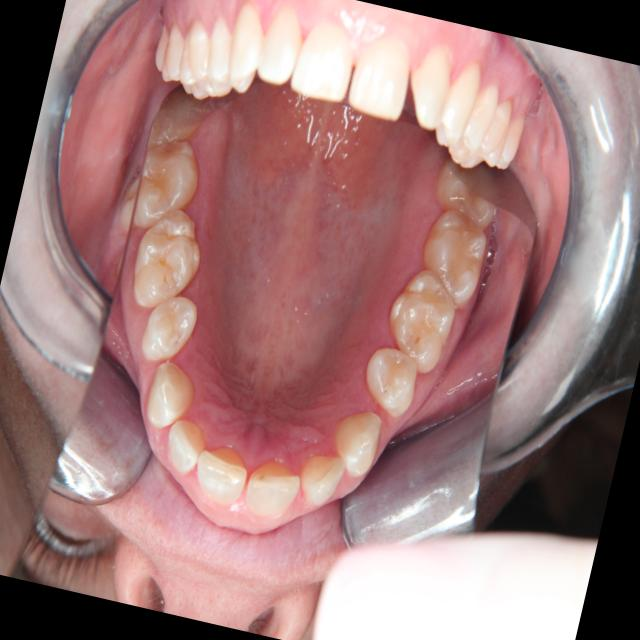tooth: (371, 254, 470, 385), (119, 197, 213, 322), (118, 127, 209, 243), (408, 197, 498, 313), (424, 141, 513, 235), (129, 276, 210, 373), (133, 346, 207, 443), (134, 74, 214, 163), (353, 334, 429, 424), (321, 394, 391, 488), (184, 429, 257, 516), (238, 444, 308, 530), (154, 407, 216, 485), (291, 442, 350, 515)
